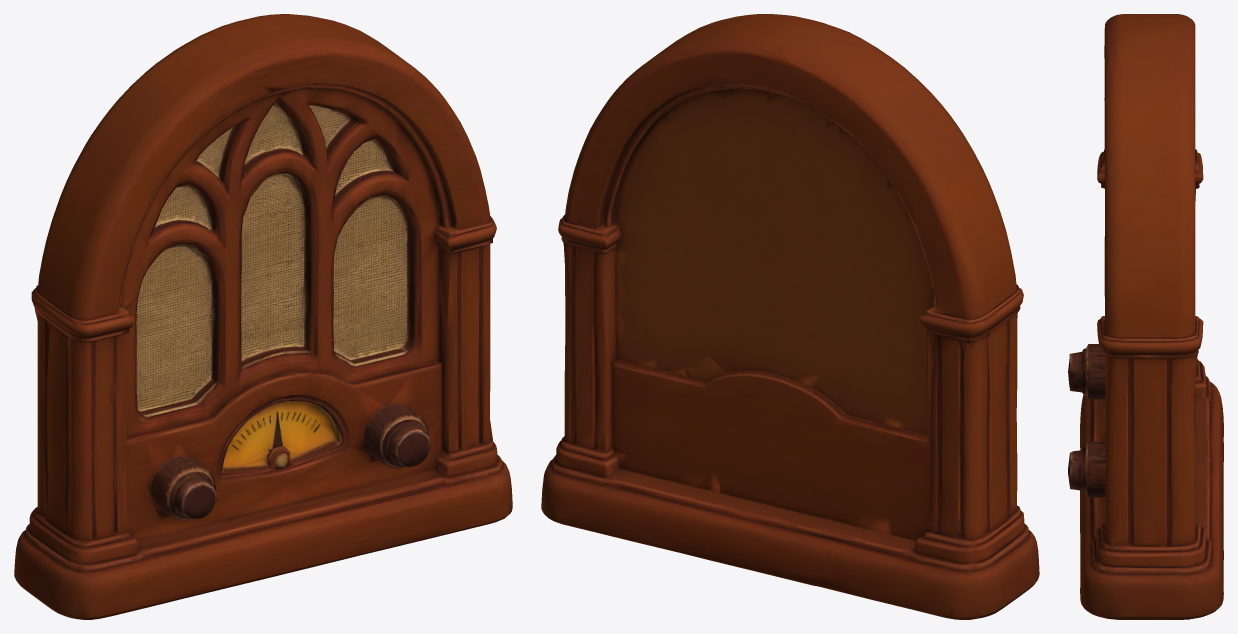
Rendered from radioAntigo.fbx.
The picture shows the model from 3 angles, left to right: view 1: azimuth 30°, elevation 25°; view 2: azimuth 150°, elevation 25°; view 3: azimuth 270°, elevation 25°; orthographic projection. The views are drawn at different scales.
Parts seen in each view (by area): view 1: tripo_node_3ab5609f-1b23-43ce-ae64-6a8e72a204ba; view 2: tripo_node_3ab5609f-1b23-43ce-ae64-6a8e72a204ba; view 3: tripo_node_3ab5609f-1b23-43ce-ae64-6a8e72a204ba.
Part boxes in pixels (x1,y1,x2,y2): tripo_node_3ab5609f-1b23-43ce-ae64-6a8e72a204ba: [14, 14, 512, 619]; tripo_node_3ab5609f-1b23-43ce-ae64-6a8e72a204ba: [541, 14, 1039, 619]; tripo_node_3ab5609f-1b23-43ce-ae64-6a8e72a204ba: [1068, 14, 1223, 619].
Bounding box in the file's own units: 0.9073 × 0.9792 × 0.2852.
